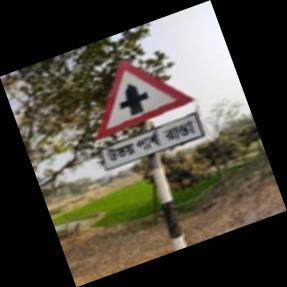Crossroad: (93, 59, 204, 171)
